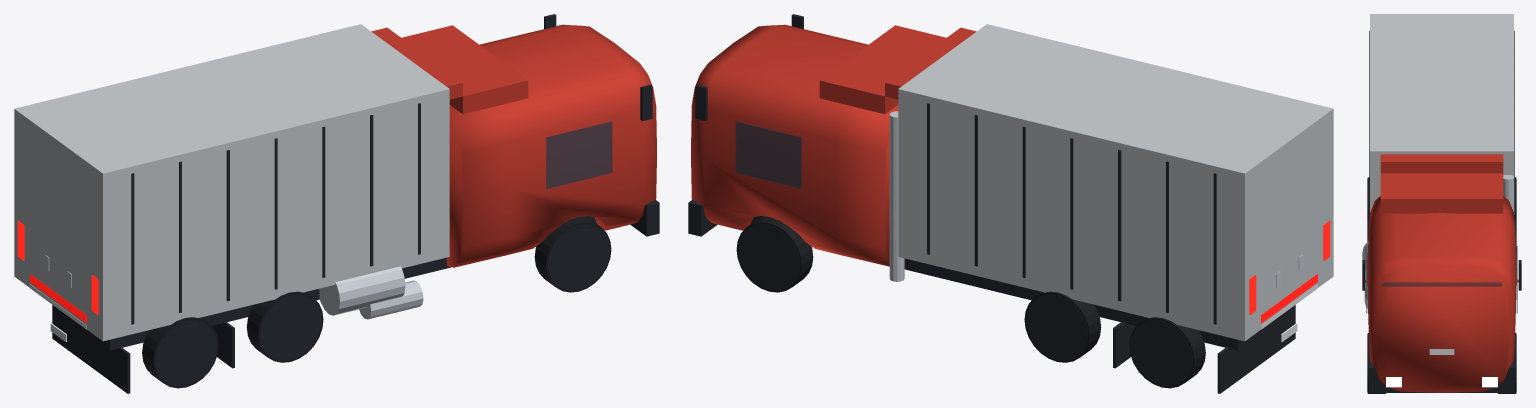
The model's file is truck.glb.
The picture shows the model from 3 angles, left to right: view 1: azimuth 30°, elevation 25°; view 2: azimuth 150°, elevation 25°; view 3: azimuth 270°, elevation 25°; orthographic projection. The views are drawn at different scales.
Visible parts, largest first — view 1: VehicleTruck; view 2: VehicleTruck; view 3: VehicleTruck.
Boxes of the visible parts, x1,y1,x2,y2 form: VehicleTruck: (14, 14, 659, 393); VehicleTruck: (688, 14, 1333, 393); VehicleTruck: (1362, 14, 1521, 393).
Size of the model in its own units: 0.8526 by 0.34 by 0.26.
